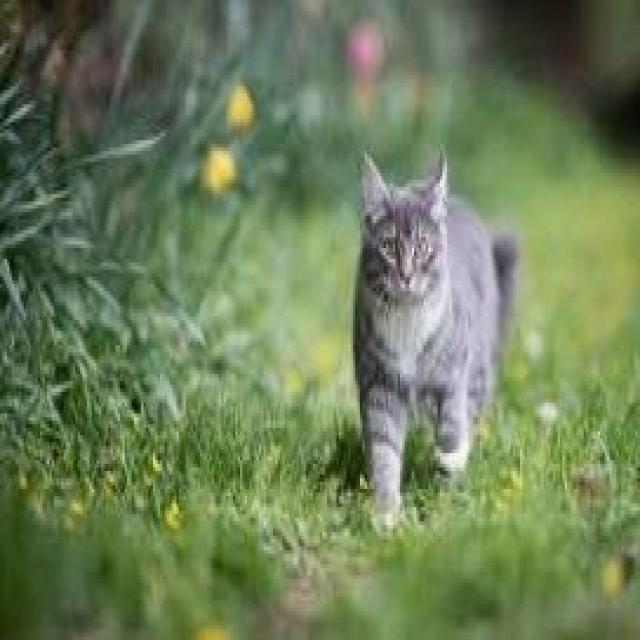Gato: (348, 148, 522, 540)
